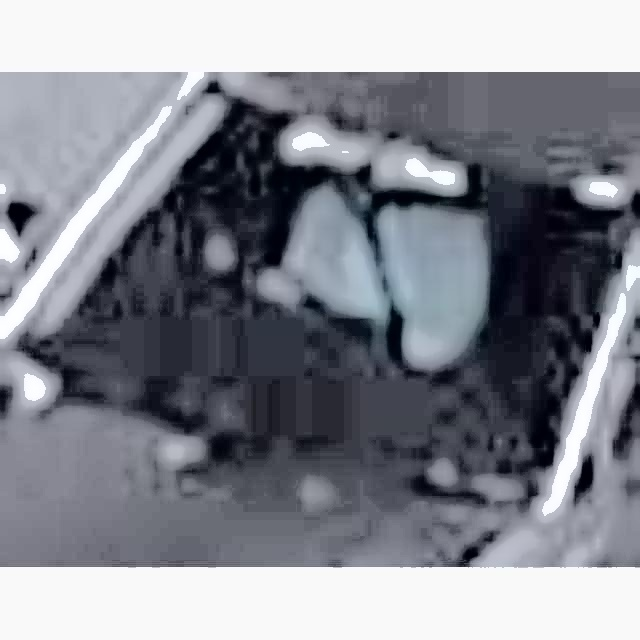pakai: (229, 133, 488, 400)
